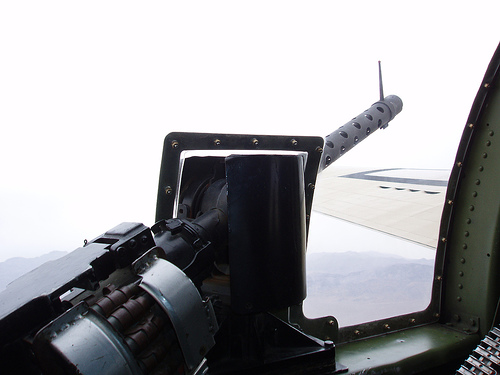rifle: (11, 76, 449, 346)
